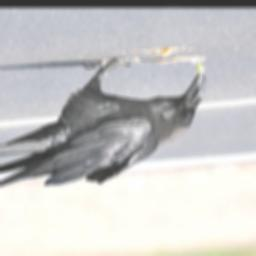Crow: (0, 58, 206, 189)
